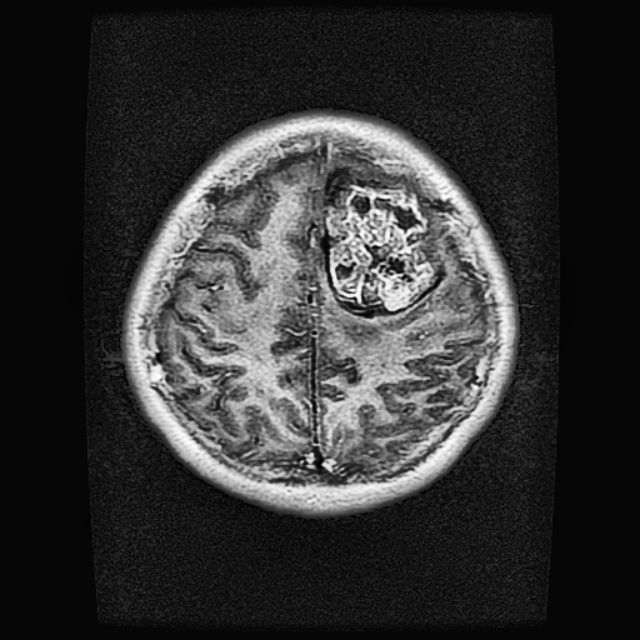Pituitary: (322, 165, 444, 317)
